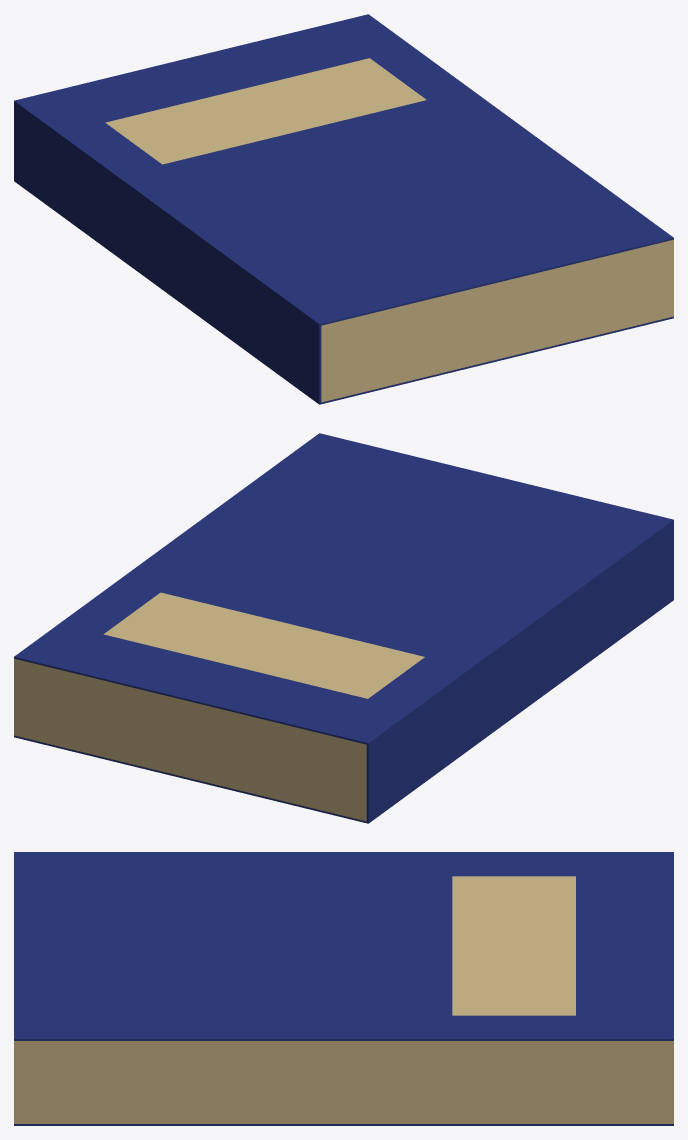
Rendered from Book10.fbx.
The picture shows the model from 3 angles, top to bottom: view 1: azimuth 30°, elevation 25°; view 2: azimuth 150°, elevation 25°; view 3: azimuth 270°, elevation 25°; orthographic projection. The views are drawn at different scales.
Visible parts, largest first — view 1: Cube; view 2: Cube; view 3: Cube.
Boxes of the visible parts, bbox=[...] form: Cube: bbox=[14, 14, 673, 404]; Cube: bbox=[14, 433, 673, 823]; Cube: bbox=[14, 852, 673, 1125].
Bounding box in the file's own units: 0.3015 × 0.0654 × 0.45.
